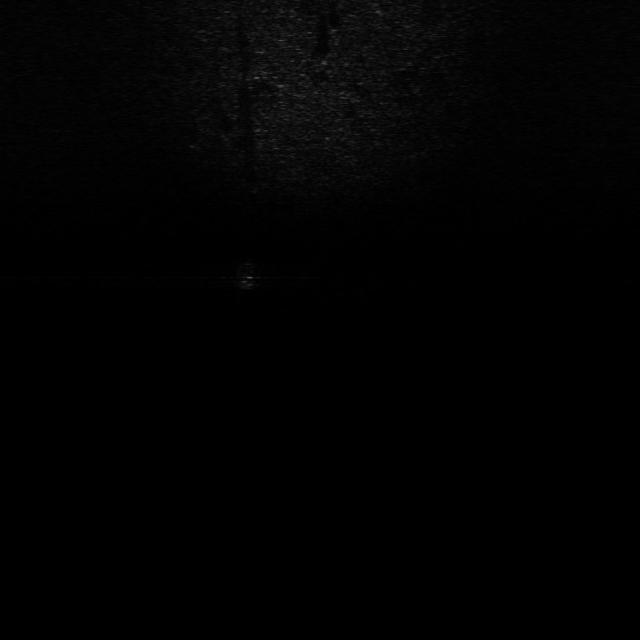human body: (233, 254, 267, 300)
